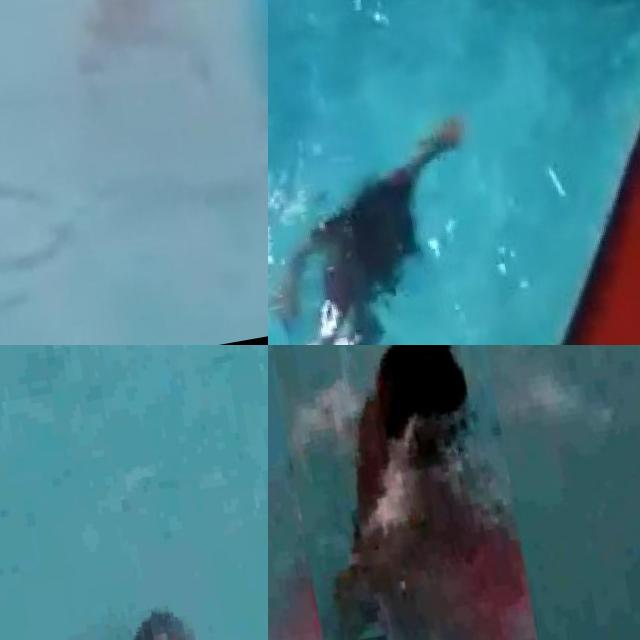drowning: (268, 345, 540, 640), (268, 93, 514, 345), (42, 0, 217, 109), (30, 569, 252, 640)
